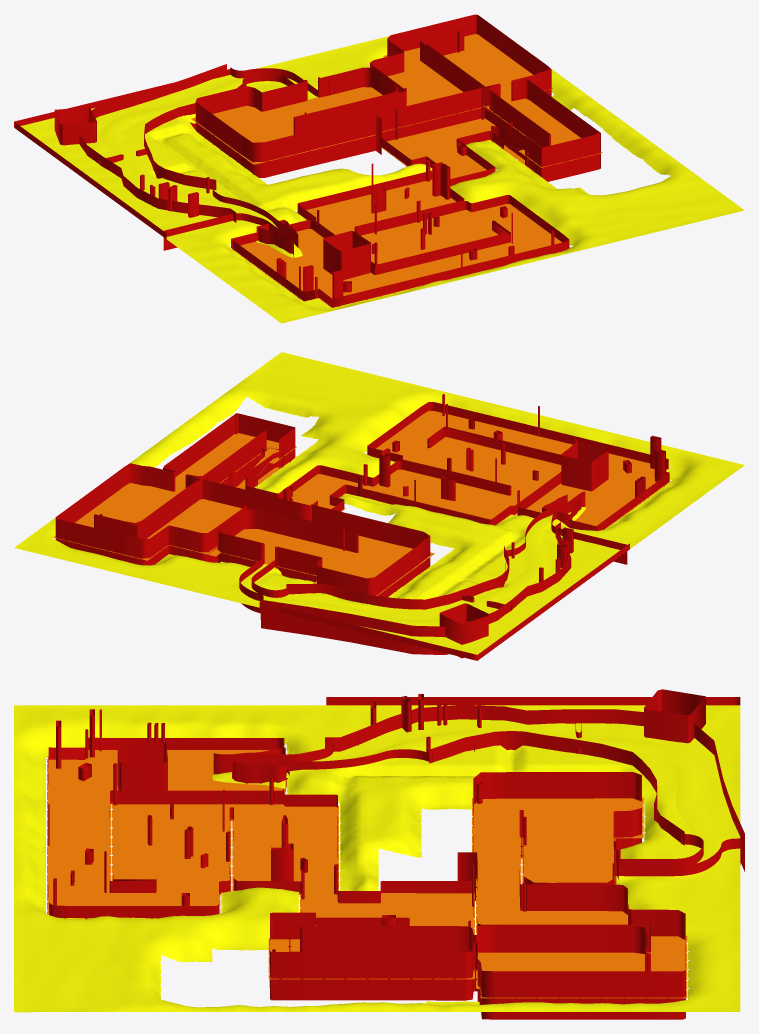
File: colmesh.fbx
3 views of the same model, one above another, from view 1: azimuth 30°, elevation 25°; view 2: azimuth 150°, elevation 25°; view 3: azimuth 270°, elevation 25° (orthographic). The views are drawn at different scales.
Parts seen in each view (by area): view 1: Mesh_ncl1_2, Mesh, Mesh_ncl1_1; view 2: Mesh_ncl1_2, Mesh, Mesh_ncl1_1; view 3: Mesh, Mesh_ncl1_2, Mesh_ncl1_1.
Part boxes in pixels (x1,y1,x2,y2): Mesh_ncl1_2: (14, 14, 600, 307); Mesh: (20, 36, 744, 323); Mesh_ncl1_1: (191, 34, 602, 307); Mesh_ncl1_2: (55, 394, 669, 660); Mesh: (14, 352, 744, 654); Mesh_ncl1_1: (53, 411, 670, 595); Mesh: (14, 705, 740, 1012); Mesh_ncl1_2: (48, 689, 744, 1019); Mesh_ncl1_1: (47, 750, 687, 998).
Bounding box in the file's own units: 40015 × 3324 × 40263.
